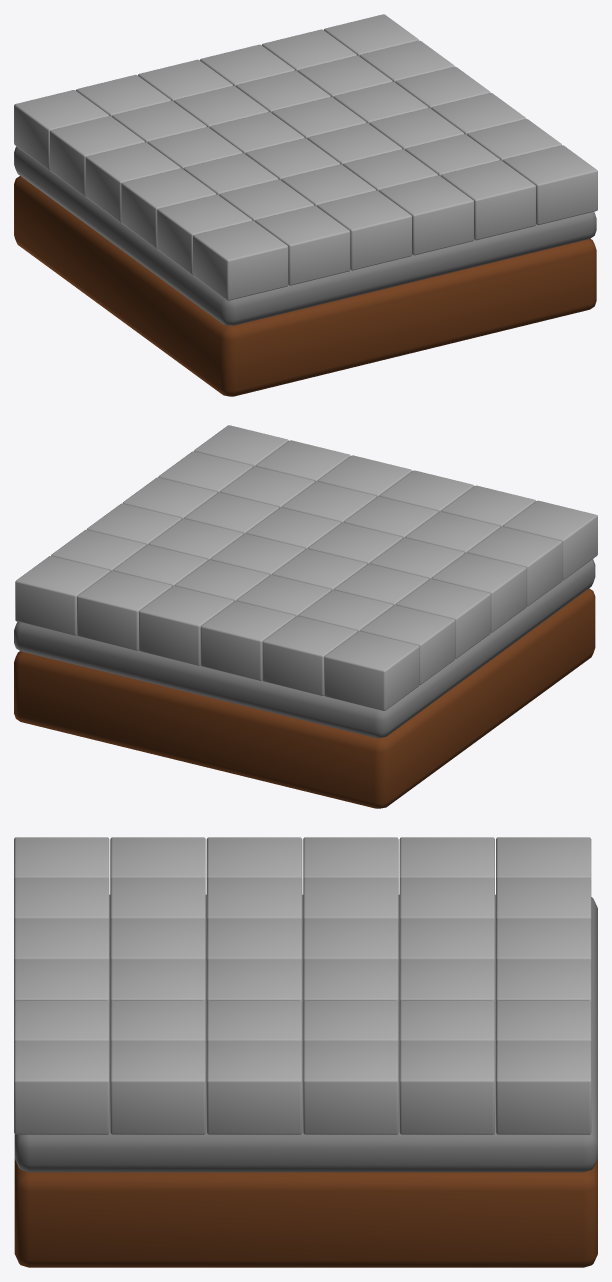
Rendered from ground_stone.glb.
3 views of the same model, one above another, from view 1: azimuth 30°, elevation 25°; view 2: azimuth 150°, elevation 25°; view 3: azimuth 270°, elevation 25° (orthographic). The views are drawn at different scales.
Visible parts, largest first — view 1: ground_stone; view 2: ground_stone; view 3: ground_stone.
Part boxes in pixels (bbox=[...]): ground_stone: bbox=[14, 14, 597, 396]; ground_stone: bbox=[14, 425, 597, 808]; ground_stone: bbox=[14, 837, 597, 1267].
Bounding box in the file's own units: 8 × 2.9 × 8.01.
